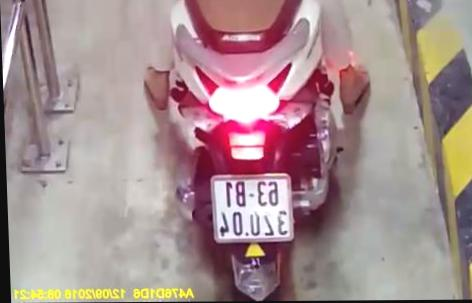License_Plate: (200, 169, 299, 249)
